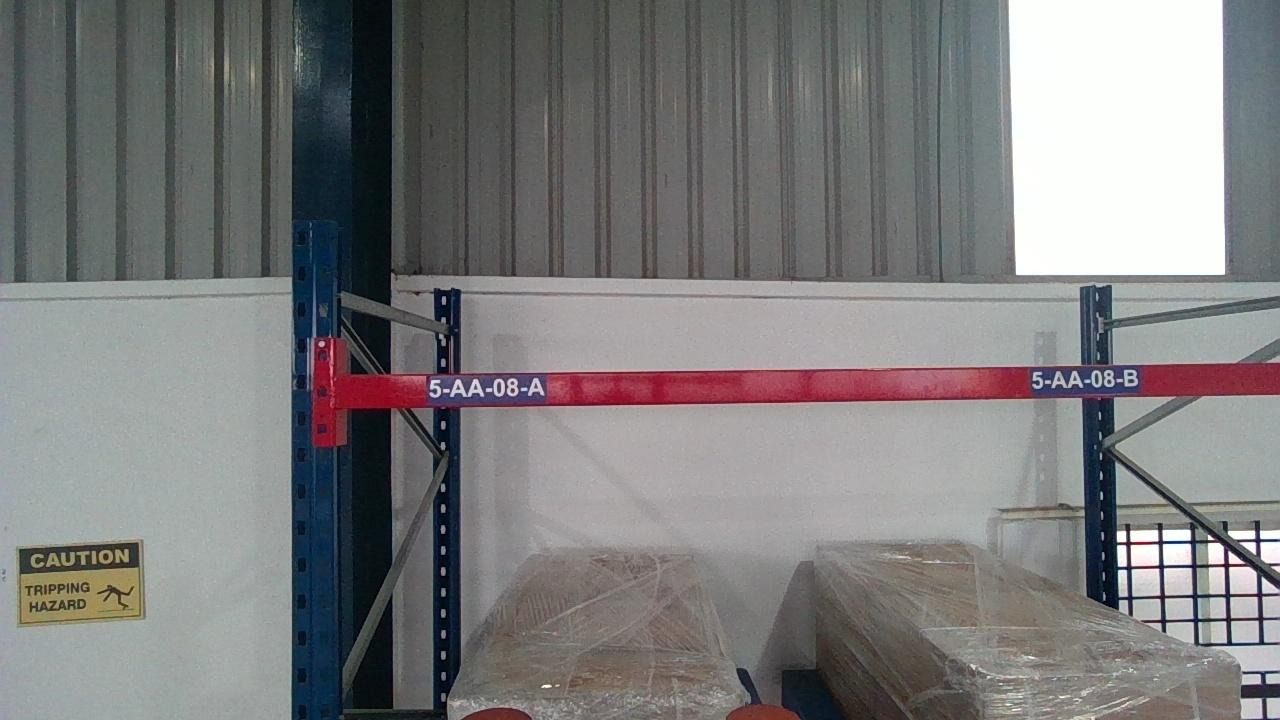h_rack: (339, 375, 1276, 395)
